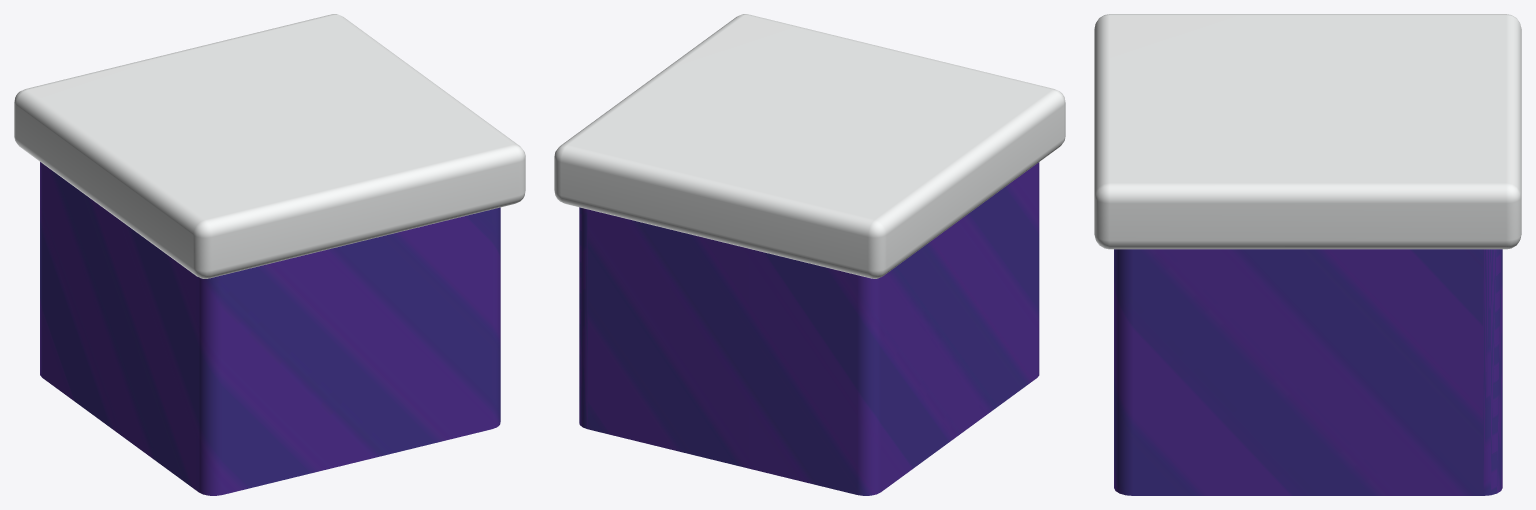
3 renders of one model, left to right at view 1: azimuth 30°, elevation 25°; view 2: azimuth 150°, elevation 25°; view 3: azimuth 270°, elevation 25°, orthographic. The views are drawn at different scales.
Visible parts, largest first — view 1: BG_01; view 2: BG_01; view 3: BG_01.
Part boxes in pixels (x1,y1,x2,y2): BG_01: (14,14,525,495); BG_01: (554,14,1065,495); BG_01: (1094,14,1521,495).
Bounding box in the file's own units: 2000 × 1625 × 2000.
